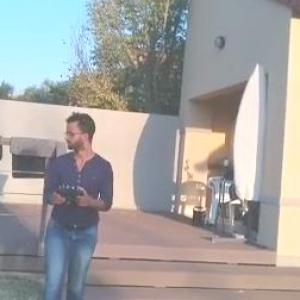follow: (34, 104, 116, 299)
